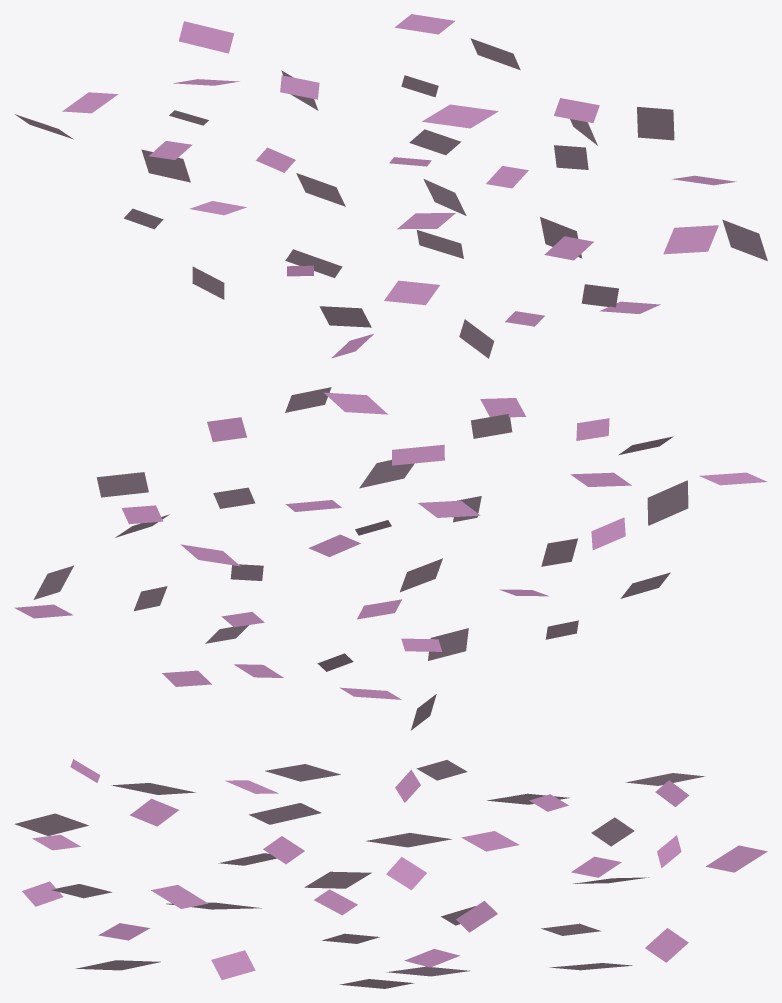
File: leaves_02.fbx
3 renders of one model, top to bottom at view 1: azimuth 30°, elevation 25°; view 2: azimuth 150°, elevation 25°; view 3: azimuth 270°, elevation 25°, orthographic. The views are drawn at different scales.
Visible parts, largest first — view 1: Plane.003; view 2: Plane.003; view 3: Plane.003.
Part boxes in pixels (x1,y1,x2,y2): Plane.003: (15,14,767,358); Plane.003: (14,387,767,730); Plane.003: (14,759,767,988).
Bounding box in the file's own units: 2893 × 146 × 3858.
